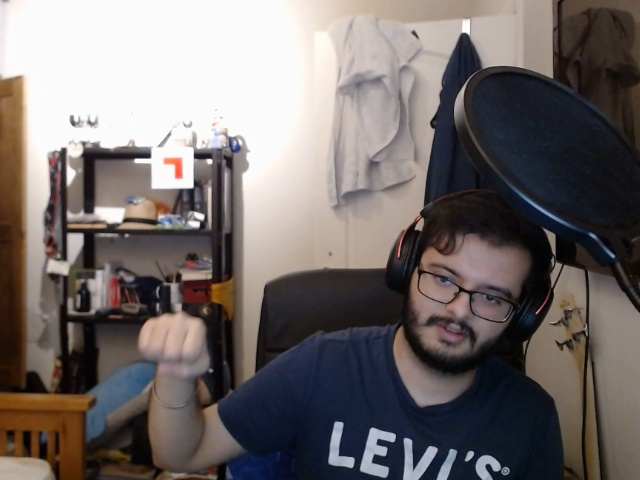Yes: (120, 309, 225, 382)
